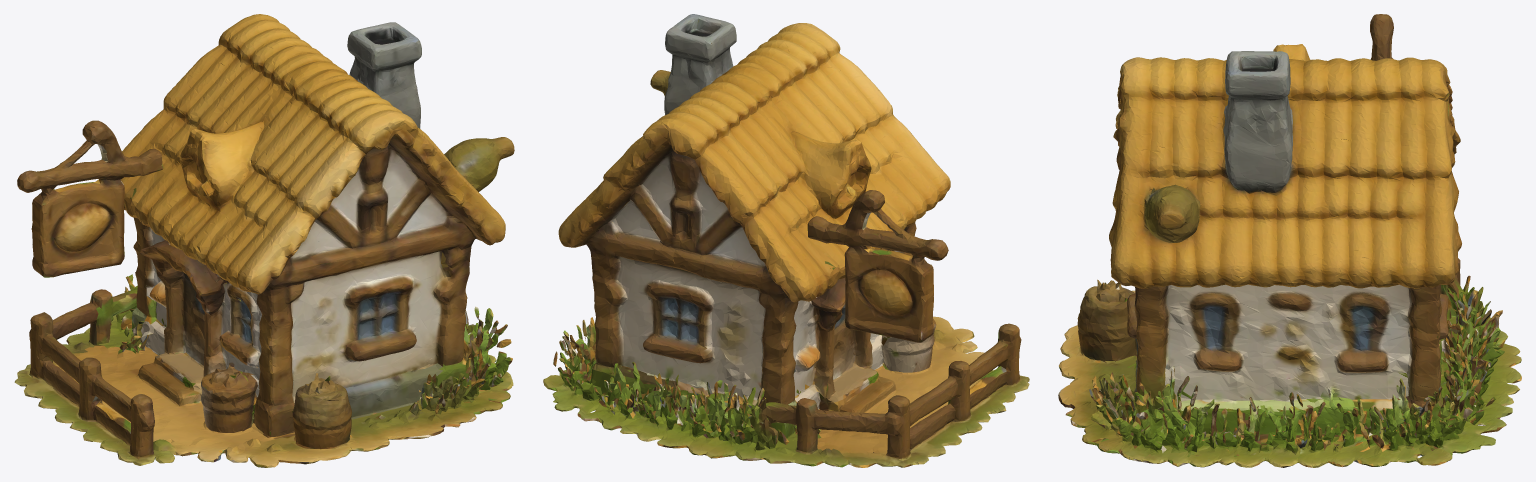
File: wc-bakery-paint.glb
3 views of the same model, side by side, from view 1: azimuth 30°, elevation 25°; view 2: azimuth 150°, elevation 25°; view 3: azimuth 270°, elevation 25° (orthographic). The views are drawn at different scales.
Visible parts, largest first — view 1: geometry_0; view 2: geometry_0; view 3: geometry_0.
Part boxes in pixels (box(x1,y1,x2,y2)): geometry_0: box(14, 14, 514, 467); geometry_0: box(543, 14, 1029, 467); geometry_0: box(1058, 14, 1521, 467).
Bounding box in the file's own units: 2 × 1.58 × 1.84.
1 material, 1 textured.
